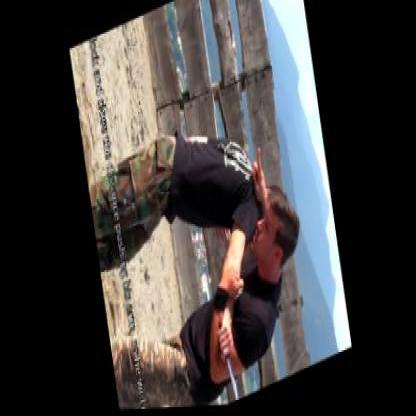knife: (212, 310, 241, 406)
